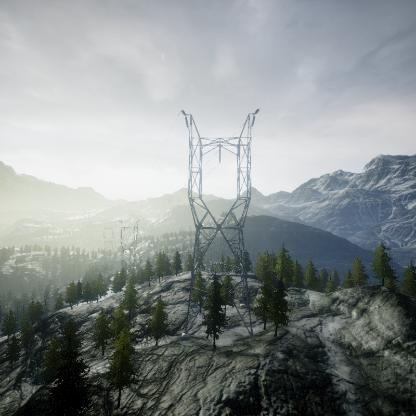tower: (176, 104, 263, 339)
